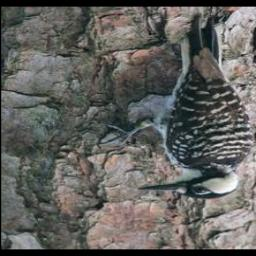Woodpecker: (91, 14, 256, 201)
